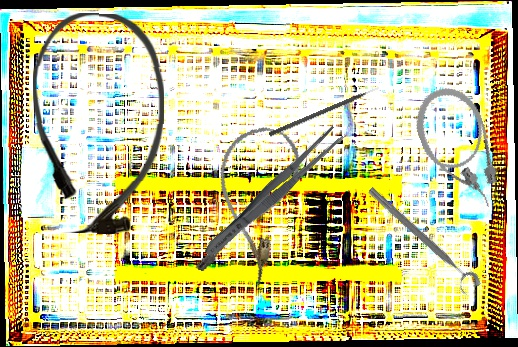Cannula: (30, 12, 166, 235), (190, 117, 308, 290), (406, 78, 510, 221)
Dressing Forceps: (199, 123, 346, 262)
Fixation Ring: (359, 183, 484, 299)
Hook Surgical: (268, 85, 381, 139)
